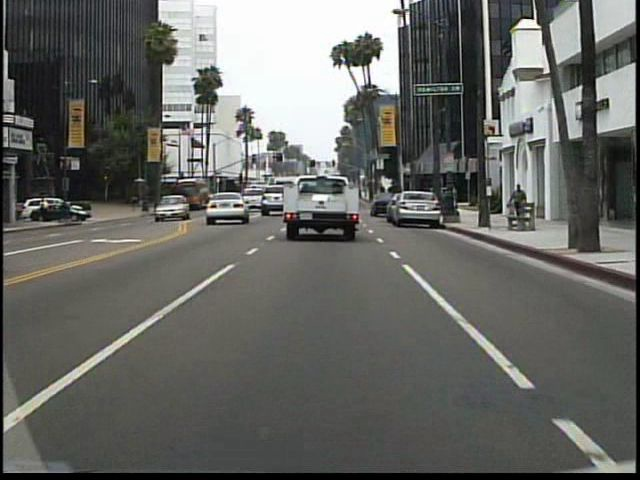person: (507, 181, 529, 226), (130, 189, 141, 216)
